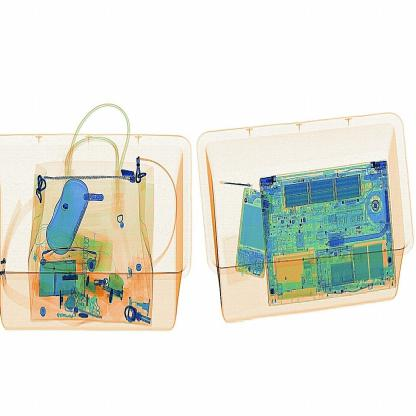wrench: (210, 172, 253, 192)
